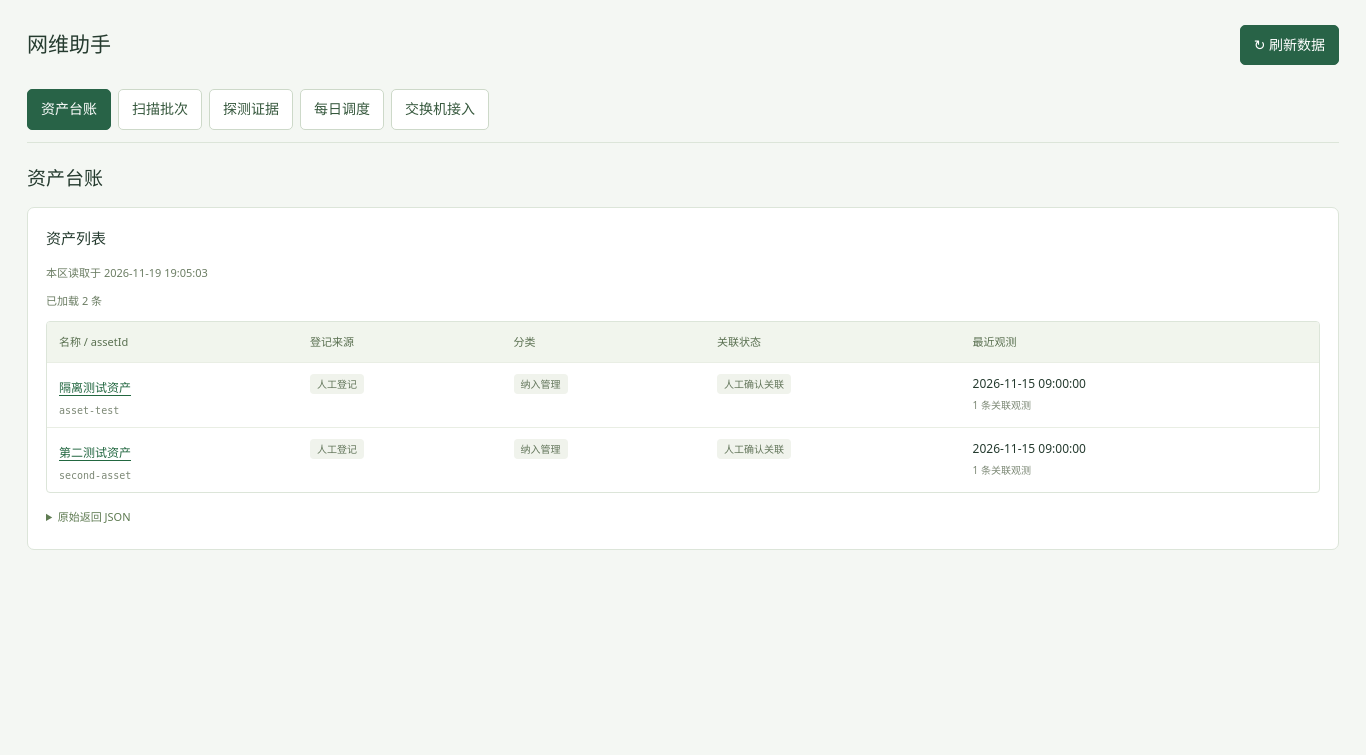
最小工作台真实读取语义（隔离响应） › 切换资产时旧请求晚到不会覆盖新资产历史
Click the button with aria-label "查看 隔离测试资产".
click(95, 388)  # box left=59, top=374, right=131, bottom=401
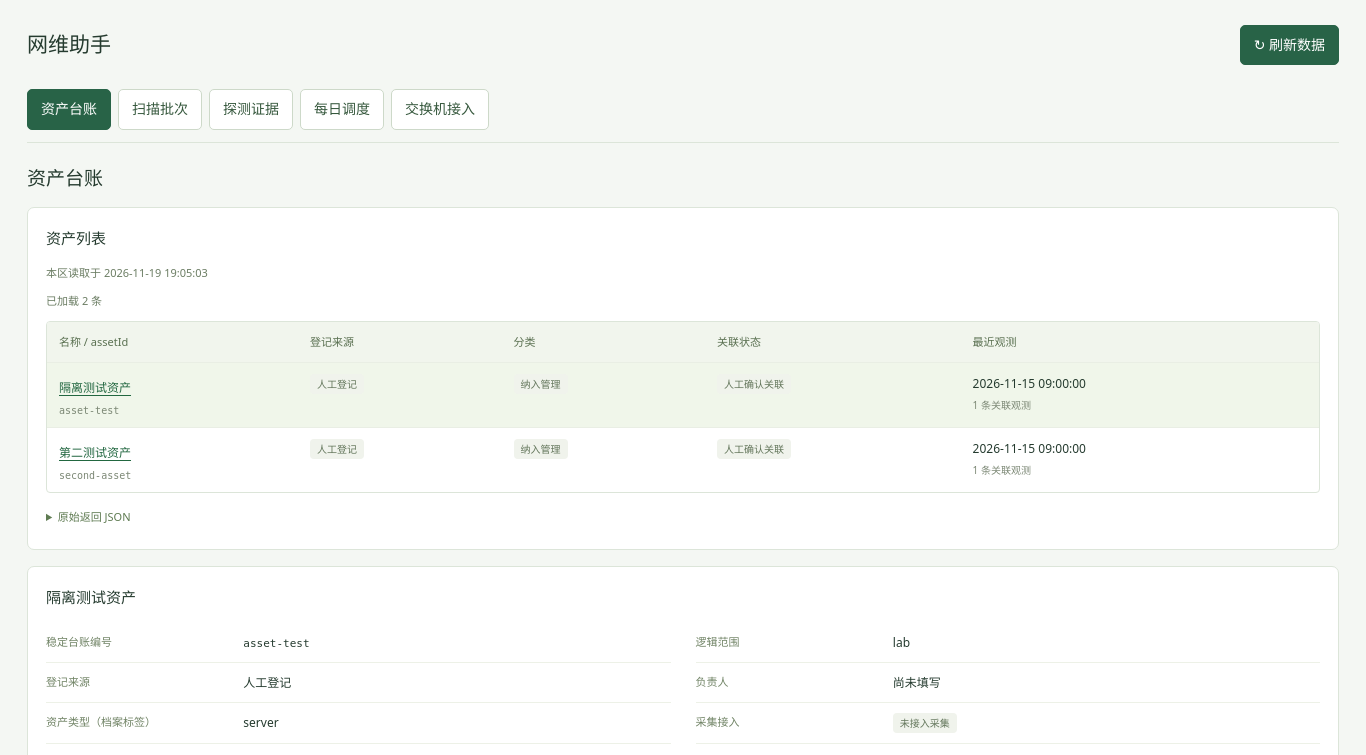
Click the button with aria-label "查看 第二测试资产".
click(95, 452)  # box left=59, top=439, right=131, bottom=466
(page scrolled)
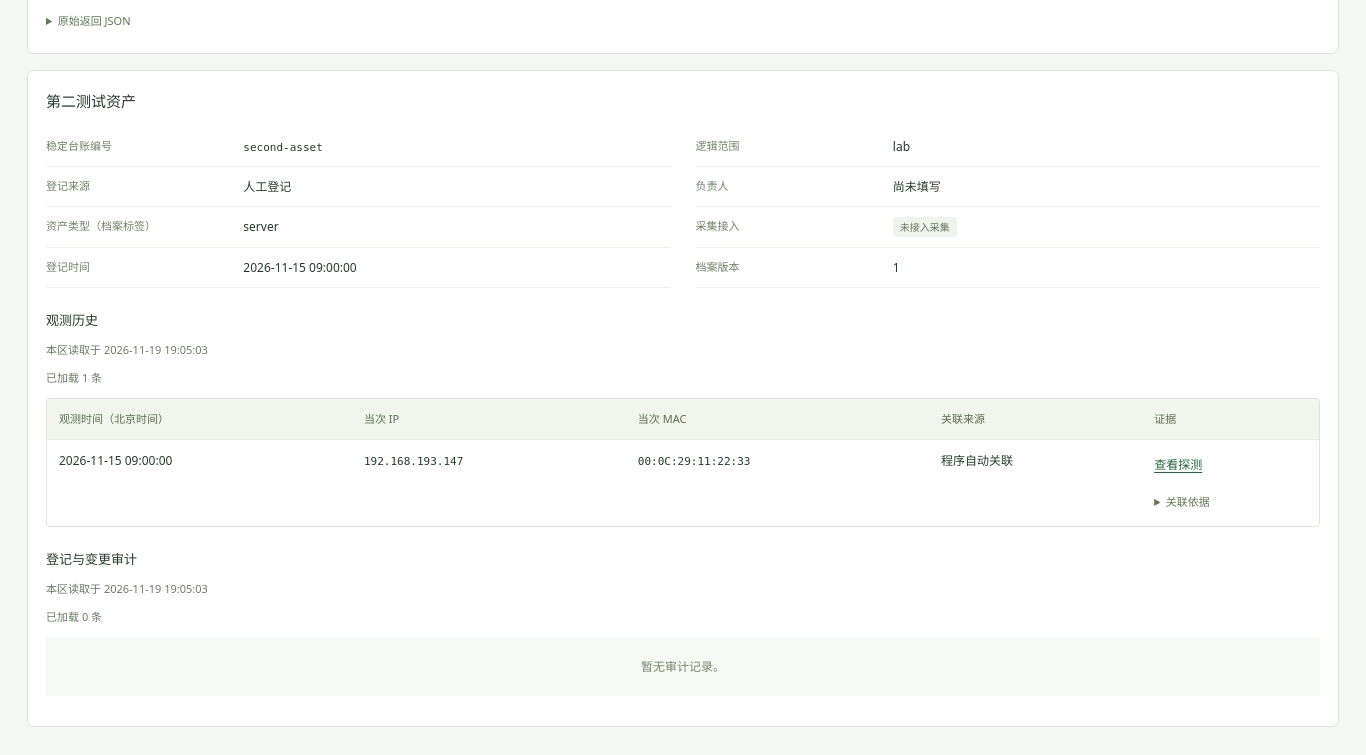
Expected: the text "192.168.193.147" is shown, left=364, top=455, right=463, bottom=468
